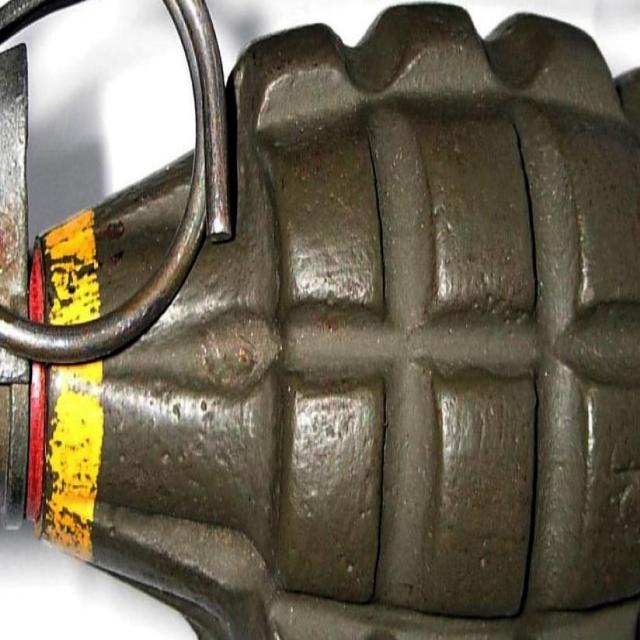grenade: (1, 1, 640, 640)
